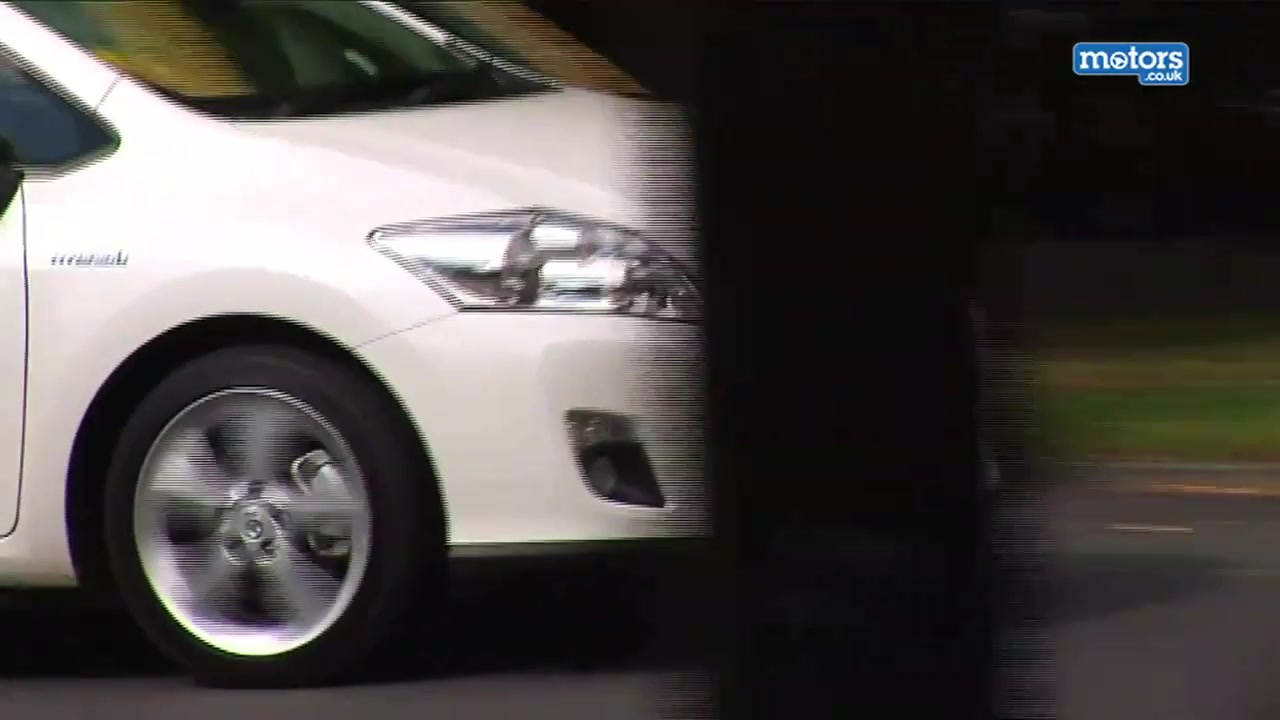car: (3, 1, 707, 696)
